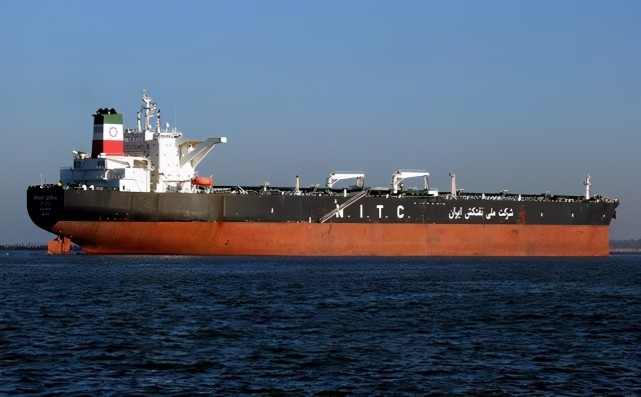Cargoship: (21, 88, 623, 259)
